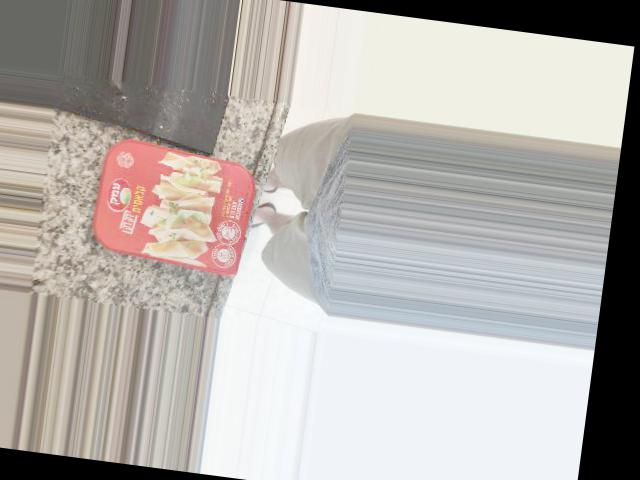cheese: (121, 123, 293, 267)
